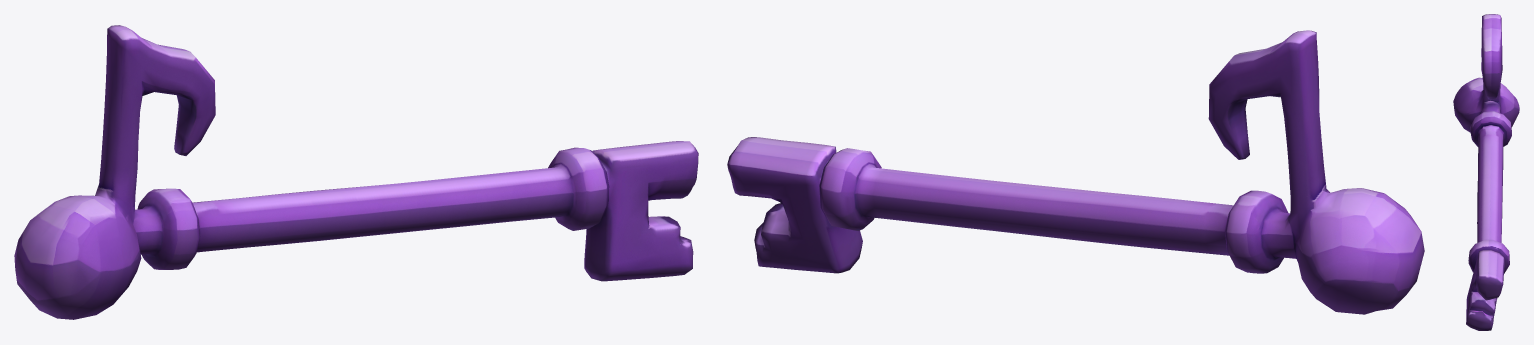
The model's file is tripo_convert_f9ee90ff-dd8b-4d25-888d-76d2f58b1fab.fbx.
3 renders of one model, left to right at view 1: azimuth 30°, elevation 25°; view 2: azimuth 150°, elevation 25°; view 3: azimuth 270°, elevation 25°, orthographic. The views are drawn at different scales.
Visible parts, largest first — view 1: tripo_node_f9ee90ff; view 2: tripo_node_f9ee90ff; view 3: tripo_node_f9ee90ff.
Part boxes in pixels (x1=…): tripo_node_f9ee90ff: x1=14, y1=25, x2=698, y2=319; tripo_node_f9ee90ff: x1=727, y1=30, x2=1424, y2=314; tripo_node_f9ee90ff: x1=1453, y1=14, x2=1519, y2=330.
Bounding box in the file's own units: 0.9784 × 0.5127 × 0.1675.
1 material, 1 textured.
